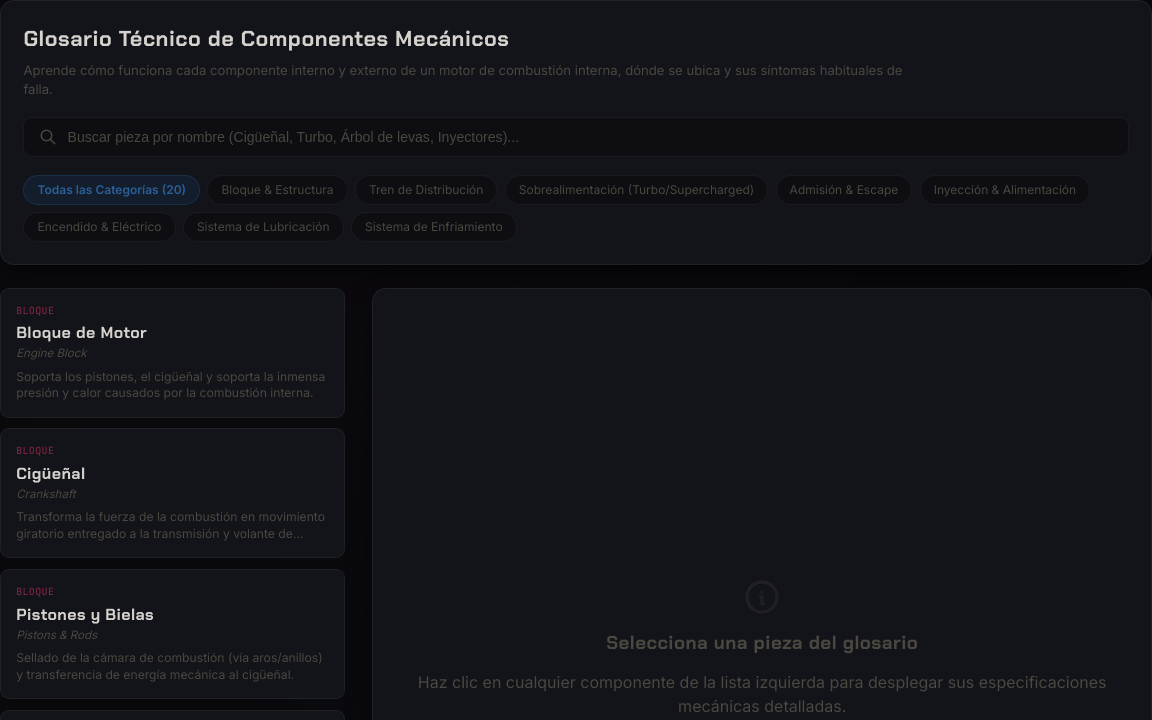
MotorExplorer - PartsGlossary Component Tests › filters parts by clicking category pills
Click the button "Sobrealimentación (Turbo/Supercharged)": (636, 190) [505,175,768,205]
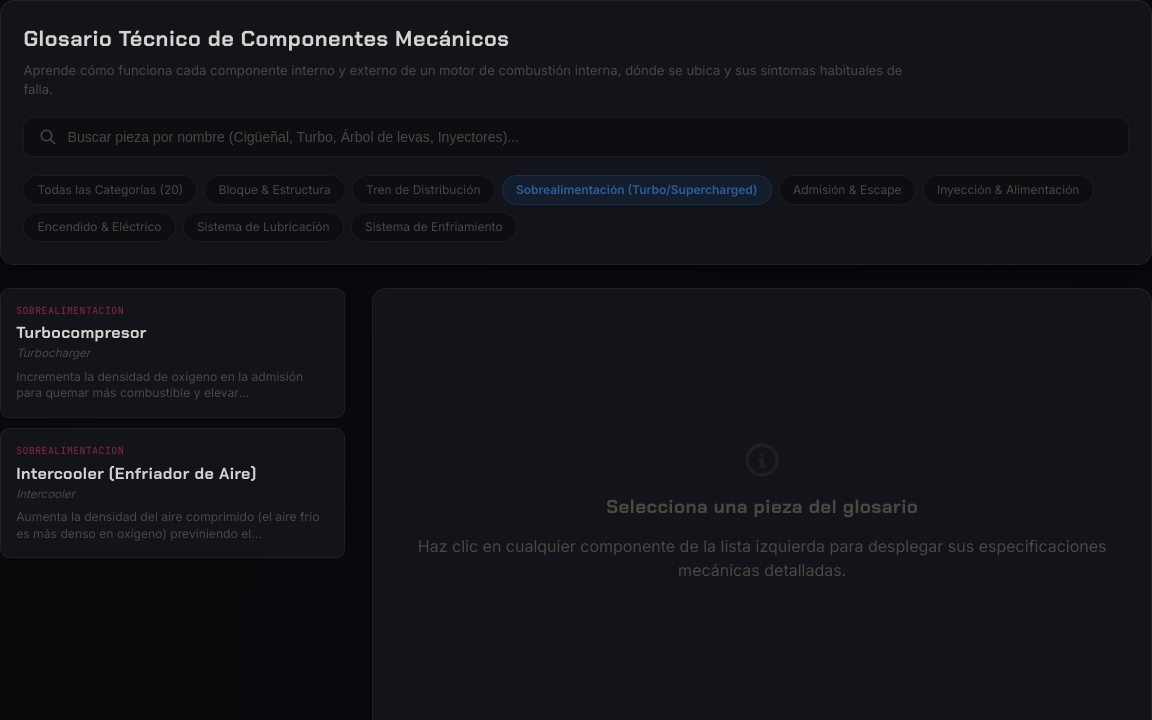
Expected: the heading "Turbocompresor" is shown, [16,322,147,344]
